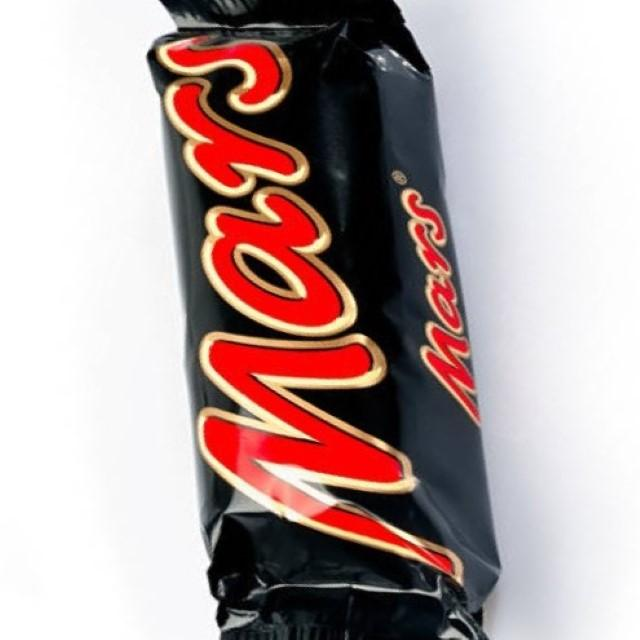mars_chocolate: (163, 20, 480, 627)
